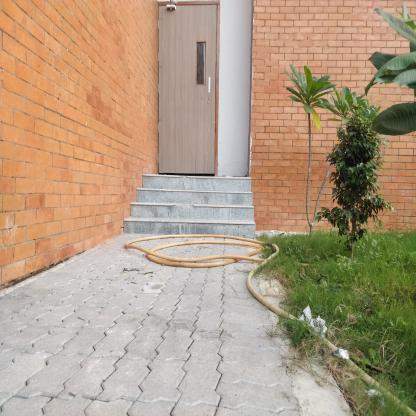stairs: (146, 172, 250, 242)
